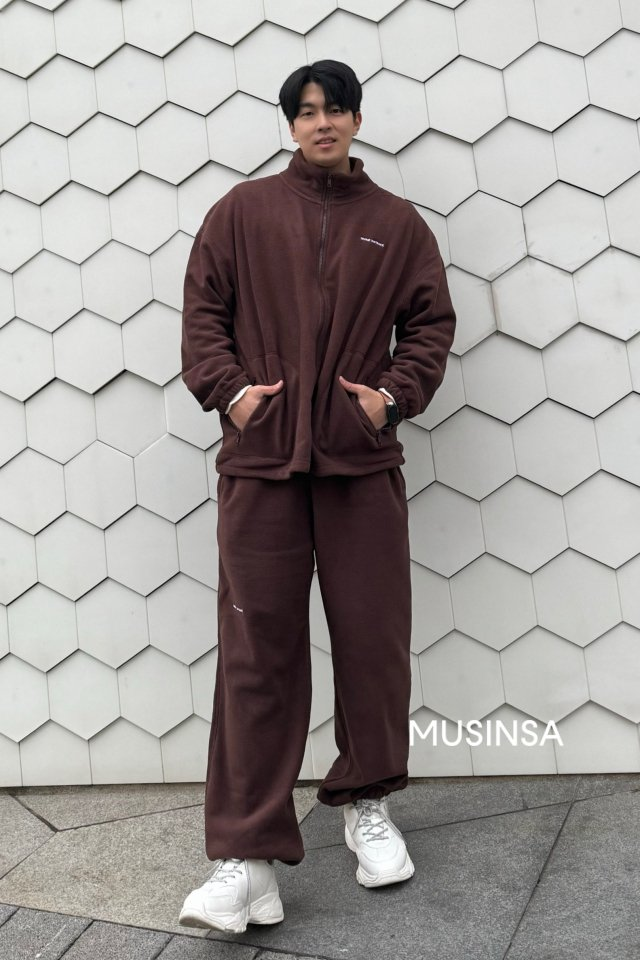Outer: (154, 149, 464, 482)
Shoes: (169, 796, 430, 941)
Training pants: (194, 467, 424, 851)
